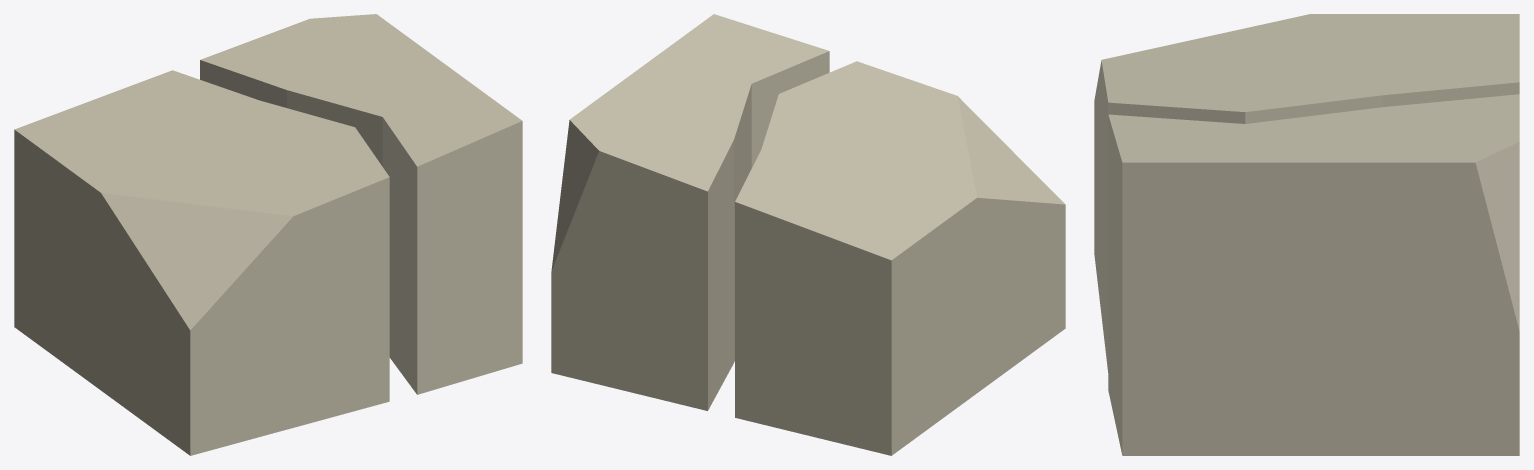
The model's file is Rock_Square_crk_s_01.fbx.
3 views of the same model, side by side, from view 1: azimuth 30°, elevation 25°; view 2: azimuth 150°, elevation 25°; view 3: azimuth 270°, elevation 25° (orthographic). The views are drawn at different scales.
Parts seen in each view (by area): view 1: Rock_Square_crk_s_01; view 2: Rock_Square_crk_s_01; view 3: Rock_Square_crk_s_01.
Part boxes in pixels (x1,y1,x2,y2): Rock_Square_crk_s_01: (14,14,522,455); Rock_Square_crk_s_01: (551,14,1065,455); Rock_Square_crk_s_01: (1094,14,1519,455).
Bounding box in the file's own units: 43.72 × 29.49 × 38.75.
